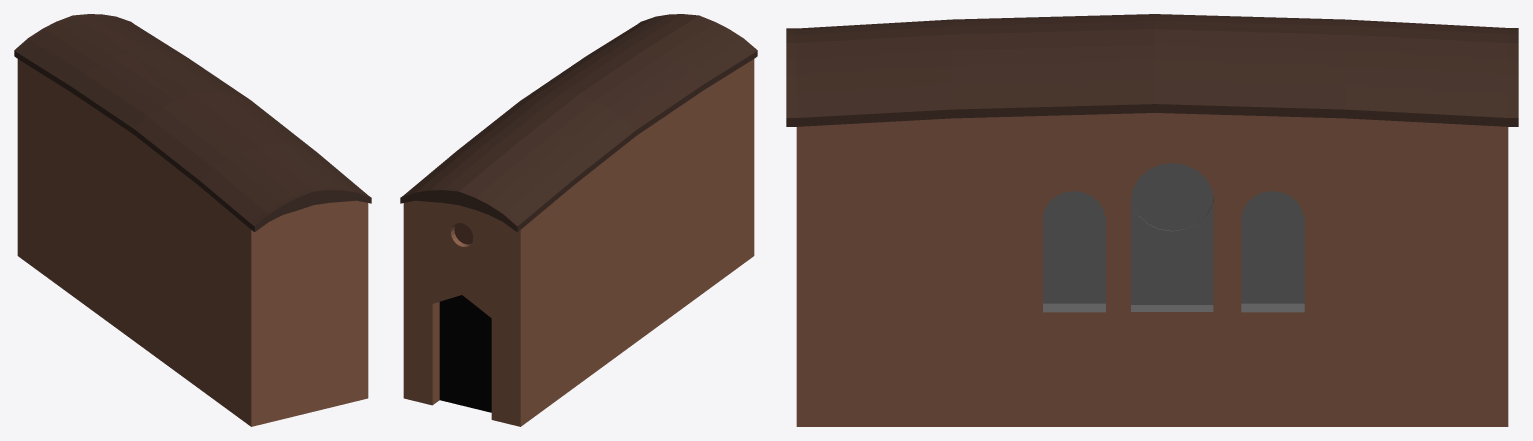
Rendered from electrica1.fbx.
3 views of the same model, side by side, from view 1: azimuth 30°, elevation 25°; view 2: azimuth 150°, elevation 25°; view 3: azimuth 270°, elevation 25° (orthographic). The views are drawn at different scales.
Parts seen in each view (by area): view 1: polySurface22; view 2: polySurface22; view 3: polySurface22.
Part boxes in pixels (x1,y1,x2,y2): polySurface22: (14, 14, 371, 426); polySurface22: (400, 14, 757, 426); polySurface22: (786, 14, 1518, 426).
Size of the model in its own units: 19.77 by 37.57 by 70.36.
